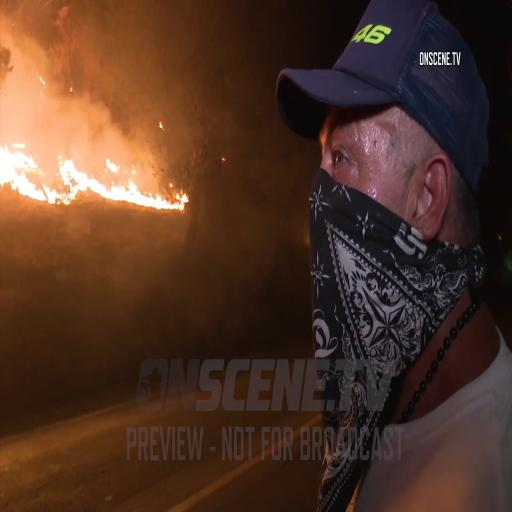fire: (0, 149, 127, 217)
